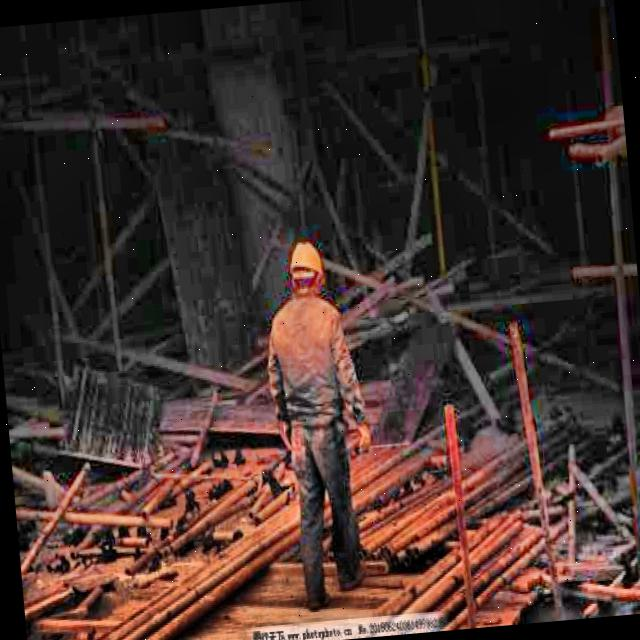helmet: (284, 234, 328, 302)
